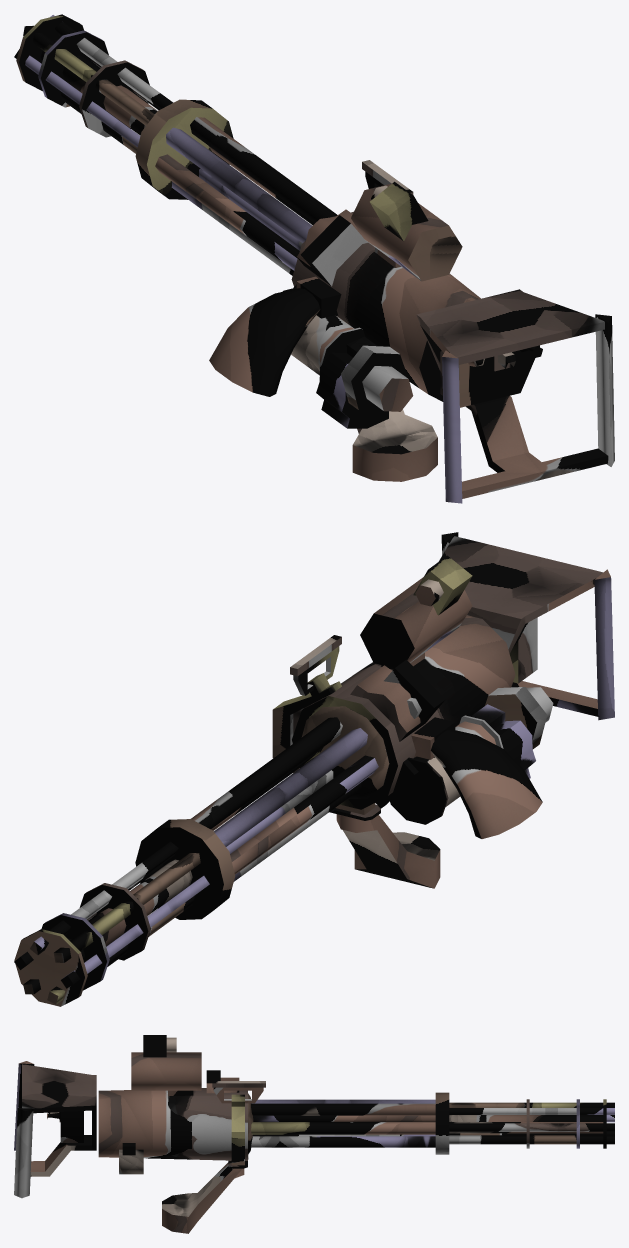
File: Minigun_.obj
3 views of the same model, one above another, from view 1: azimuth 30°, elevation 25°; view 2: azimuth 150°, elevation 25°; view 3: azimuth 270°, elevation 25° (orthographic). The views are drawn at different scales.
Visible parts, largest first — view 1: Cylinder38; view 2: Cylinder38; view 3: Cylinder38.
Part boxes in pixels (left/top/right/bottom): Cylinder38: left=14, top=14, right=614, bottom=503; Cylinder38: left=14, top=532, right=614, bottom=1006; Cylinder38: left=14, top=1035, right=614, bottom=1233.
Size of the model in its own units: 26.89 by 32.34 by 96.59.
